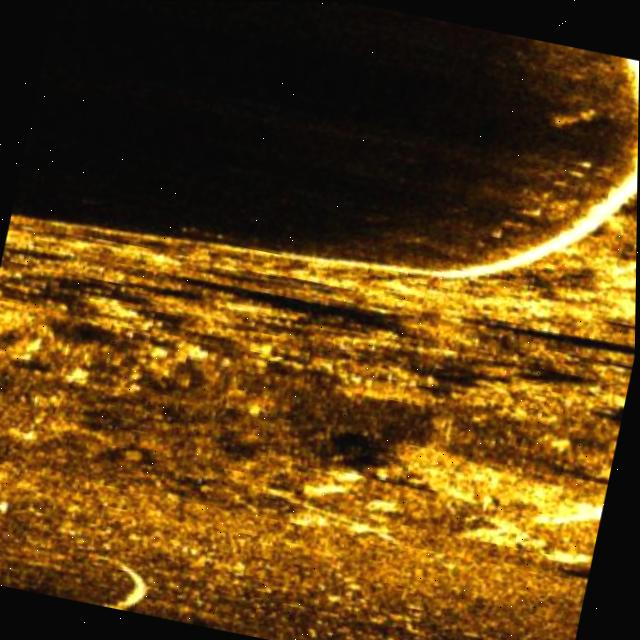bedrock group: (0, 0, 640, 489)
